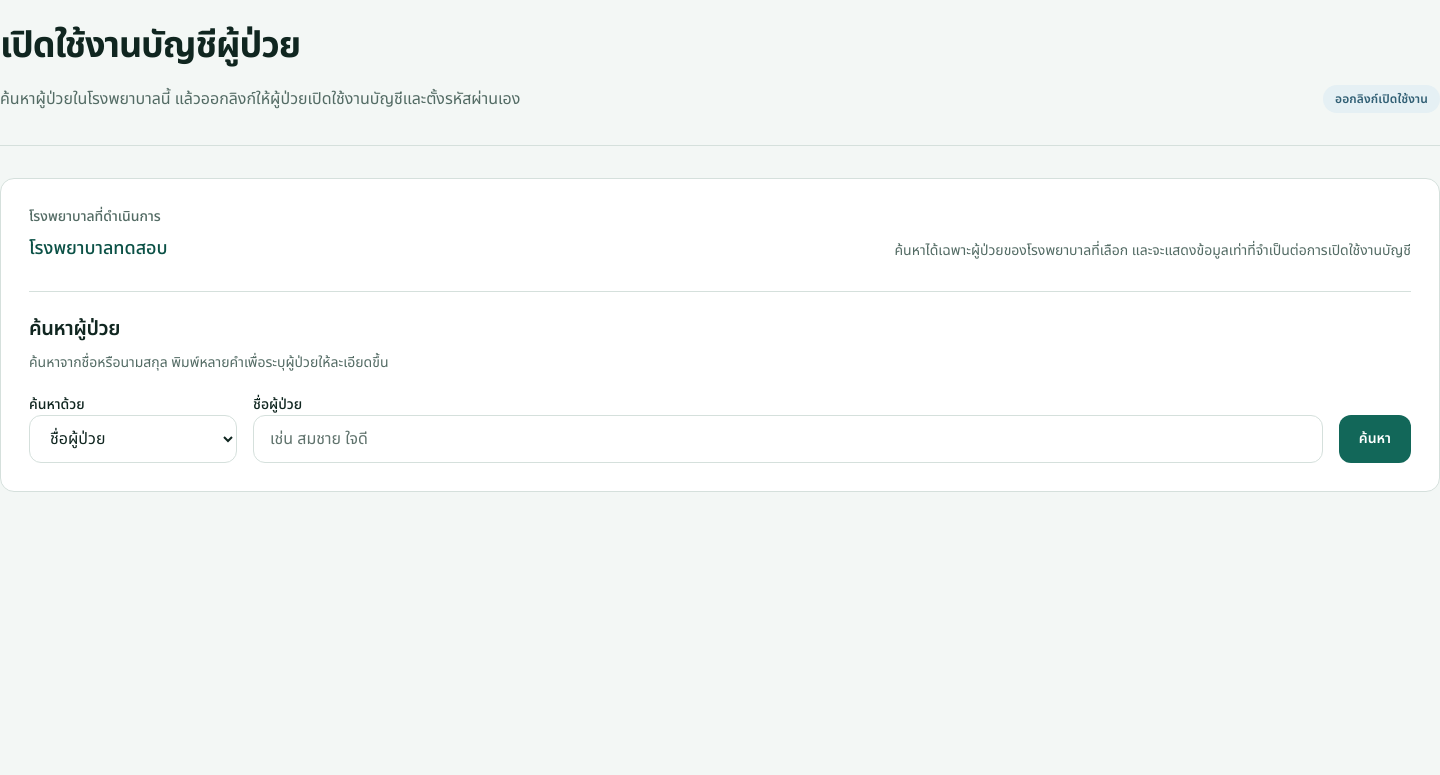
Test: Patient activation search and link issuance › labels an issued link without implying that the patient activated the account
Type "สมชาย" into the field named "value" at point(788, 439), box [253,415,1323,463]
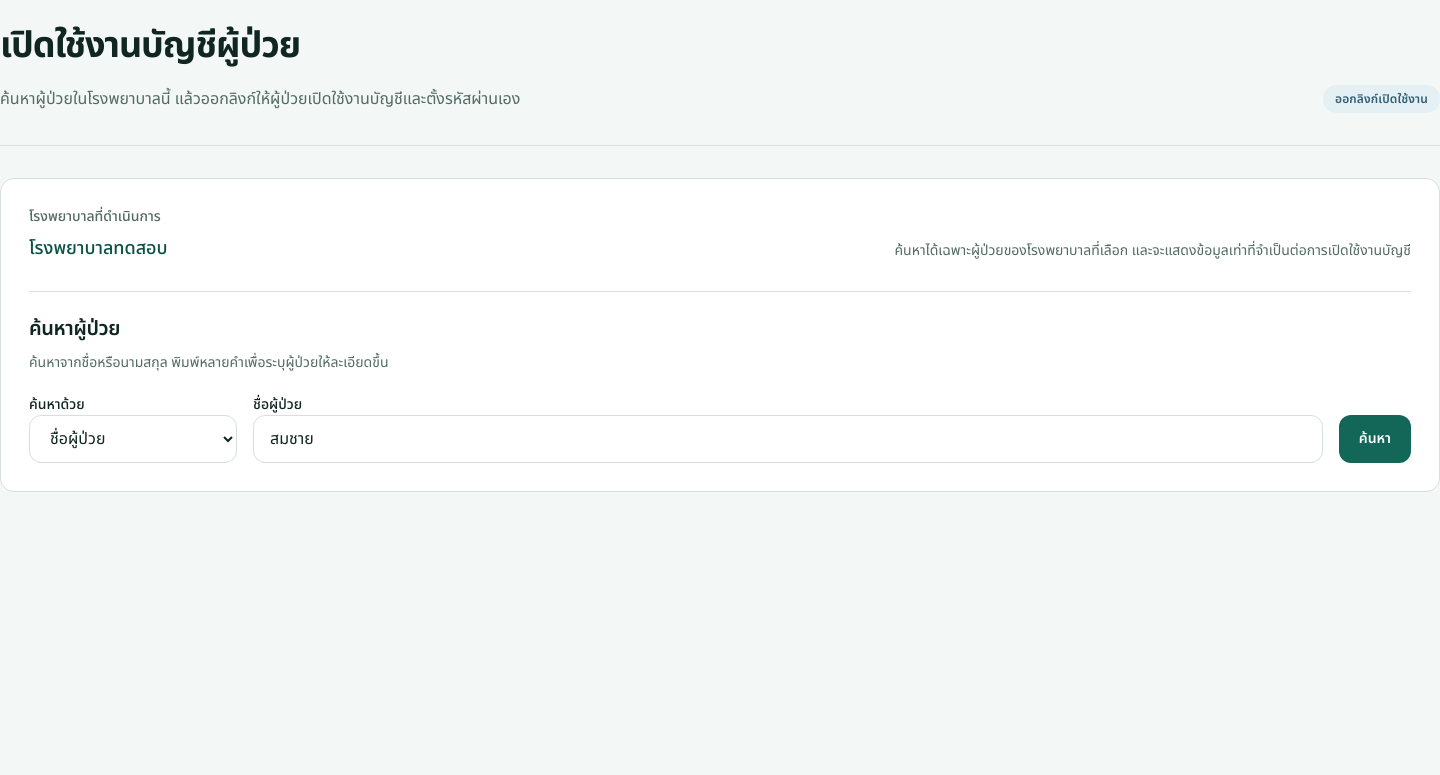
Click the button "ค้นหา" at point(1375, 439), box [1339,415,1411,463]
(page scrolled)
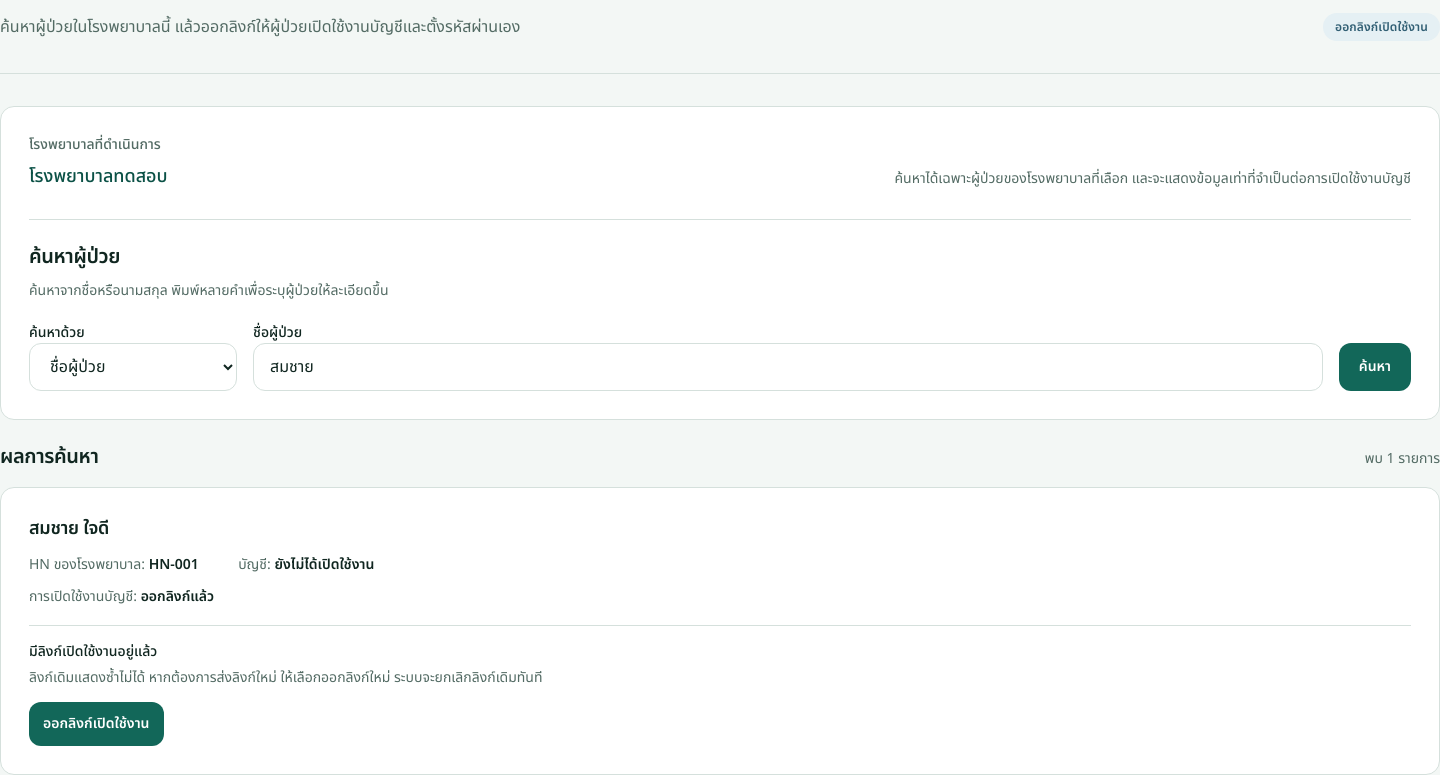
Expected: the element that starts with "สมชาย ใจดี" shows "ออกลิงก์แล้ว", [141,586,214,607]
Expected: the element that starts with "สมชาย ใจดี" shows "ลิงก์เดิมแสดงซ้ำไม่ได้", [29,667,542,688]
Expected: the element that starts with "สมชาย ใจดี" shows "ระบบจะยกเลิกลิงก์เดิมทันที", [29,667,542,688]
